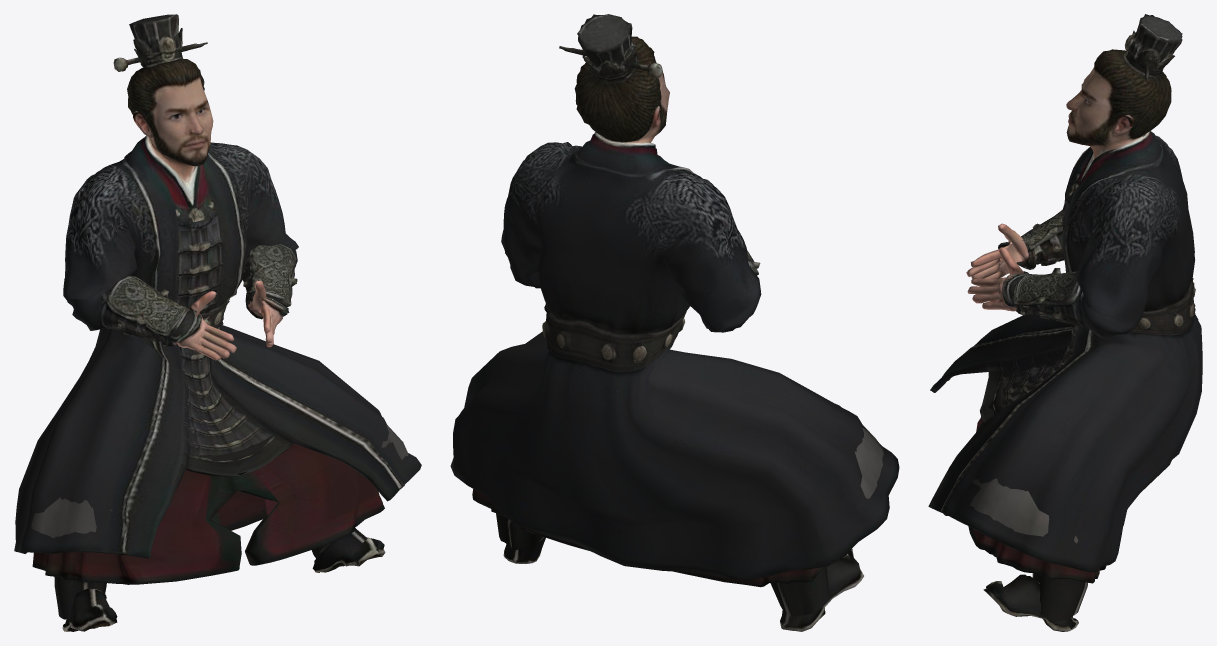
File: simayi.glb
3 views of the same model, side by side, from view 1: azimuth 30°, elevation 25°; view 2: azimuth 150°, elevation 25°; view 3: azimuth 270°, elevation 25° (orthographic). The views are drawn at different scales.
Bounding box in the file's own units: 1.4 × 1.91 × 0.8659.
Materials: 1 (1 with a texture image).
